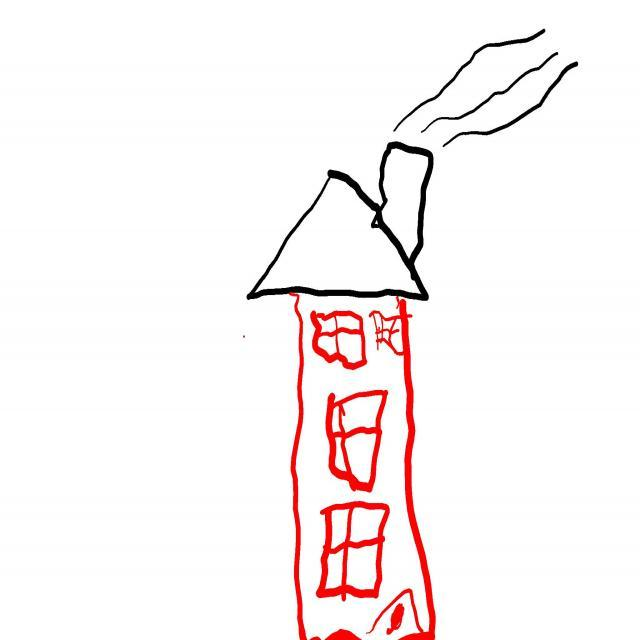chimney: (377, 135, 437, 265)
door: (366, 590, 423, 640)
house: (248, 141, 436, 640)
roof: (246, 168, 432, 302)
wall: (291, 294, 436, 640)
window: (317, 503, 390, 602), (326, 392, 388, 492), (311, 311, 367, 370), (370, 311, 403, 356)
